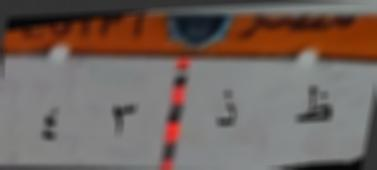3: (102, 95, 144, 144)
4: (27, 100, 72, 149)
Thaa: (290, 81, 340, 132)
zaal: (209, 78, 244, 134)
